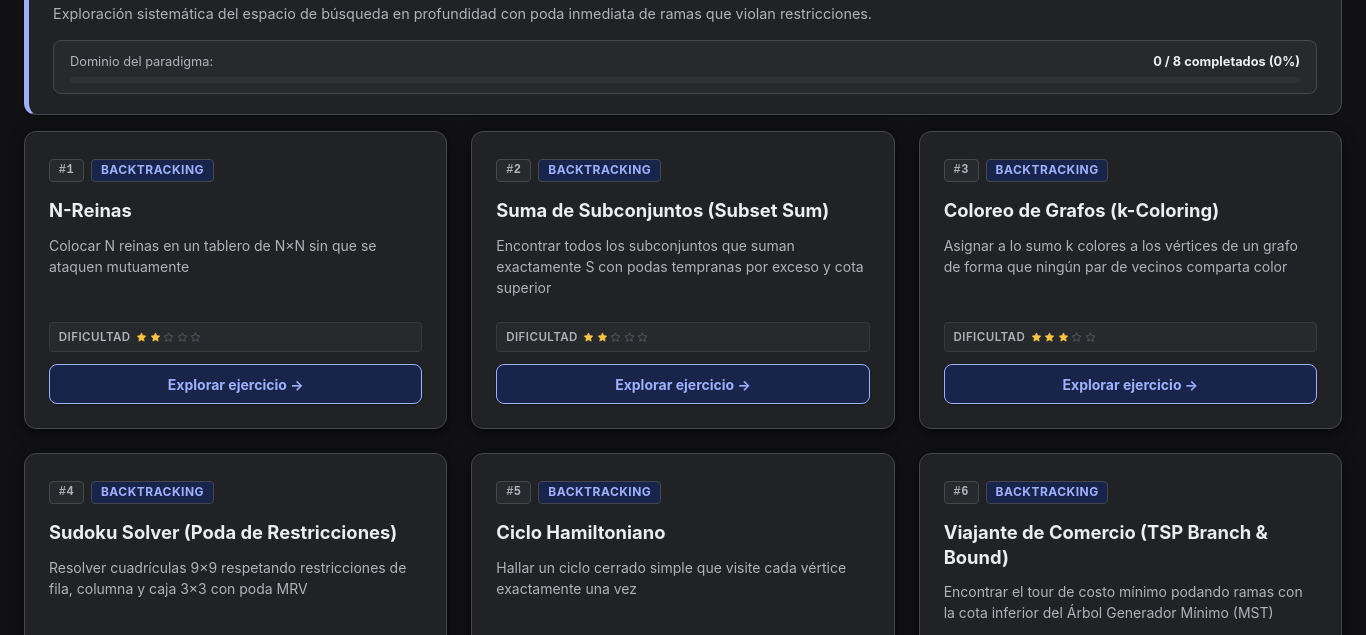
Test: Phase D: Browser / User Journey Integration Verification (15 Core Flows) › Flow 9: Timeline controls support play, step next, step prev, and reset
The width and height of the screenshot is (1366, 635).
Later steps or results of the test are not shown.
(page scrolled)
Click the button with class "btn-open-exercise" below "N-Reinas": x=236, y=384 [49,364,422,404]
(page scrolled)
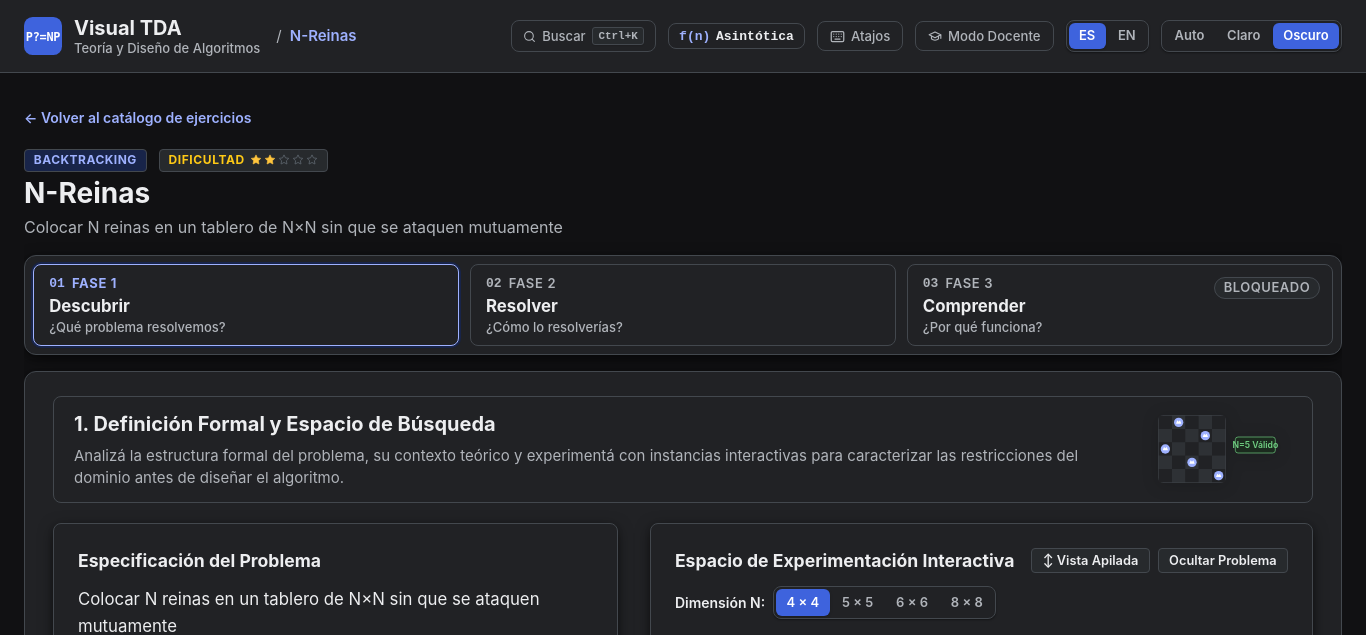
Click the tab "02 Fase 2 Resolver ¿Cómo lo resolverías?": x=532, y=283 [470,264,896,346]
(page scrolled)
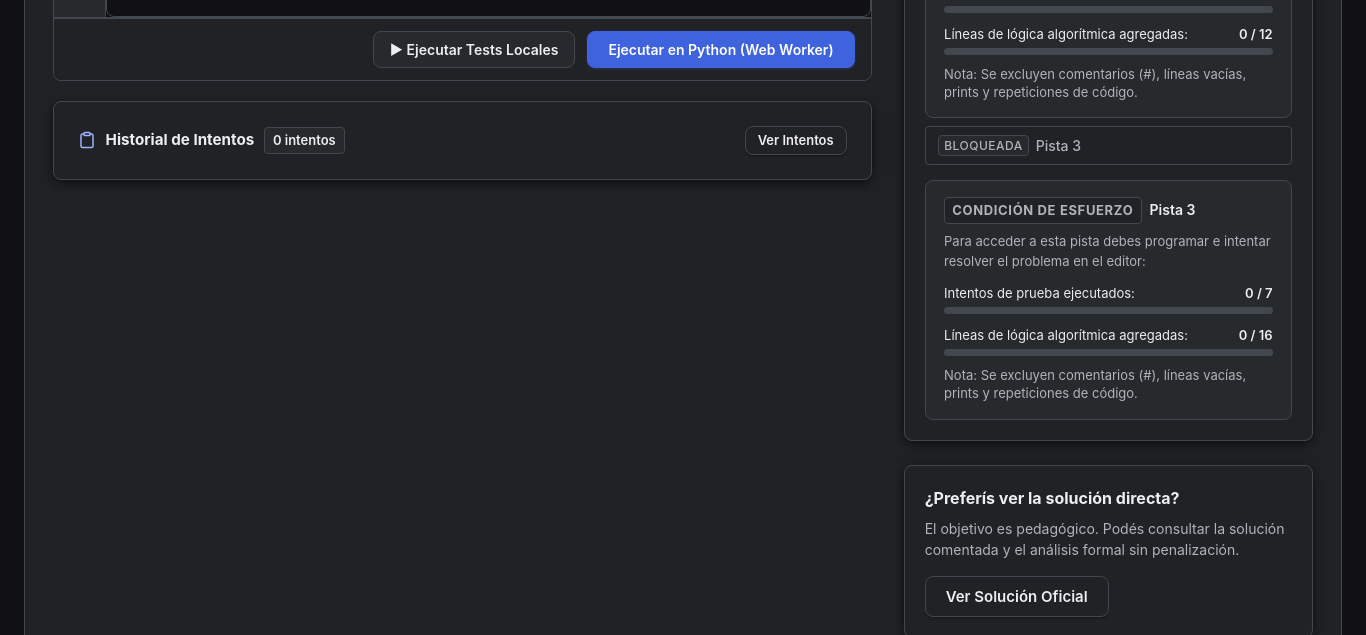
Click the button "Ver Solución Oficial": x=1017, y=596 [925,576,1109,617]
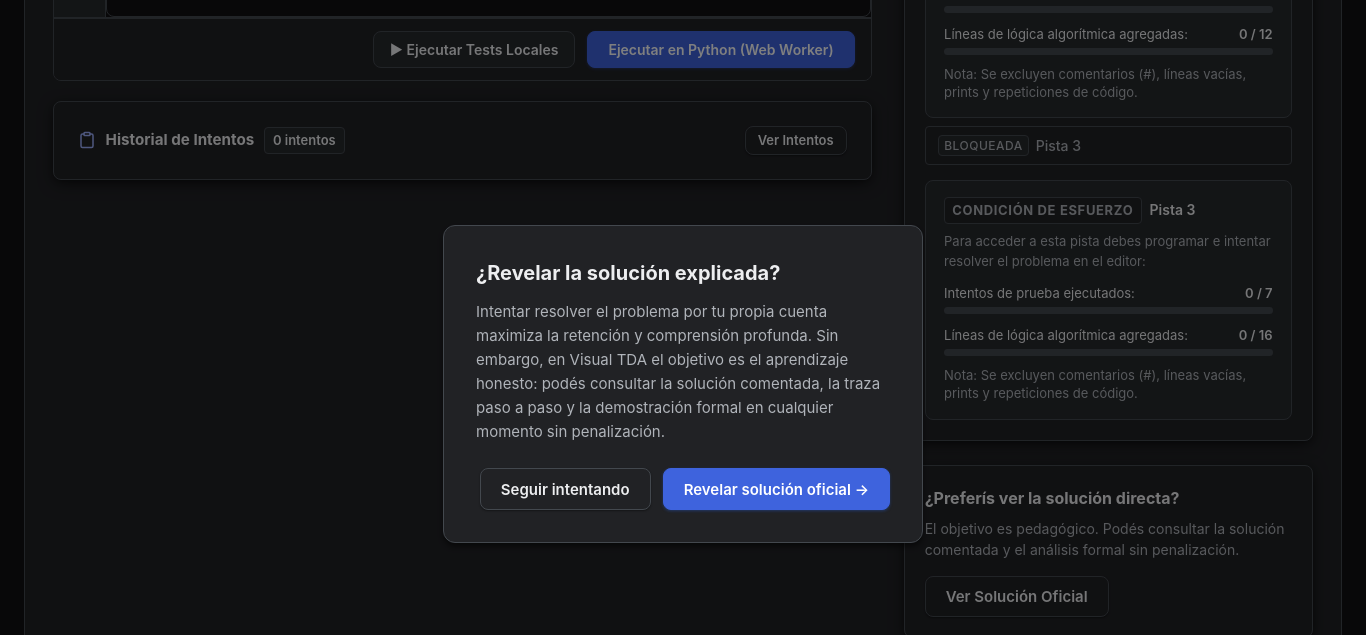
Click the button "Revelar solución oficial →": x=776, y=489 [663,468,890,510]
(page scrolled)
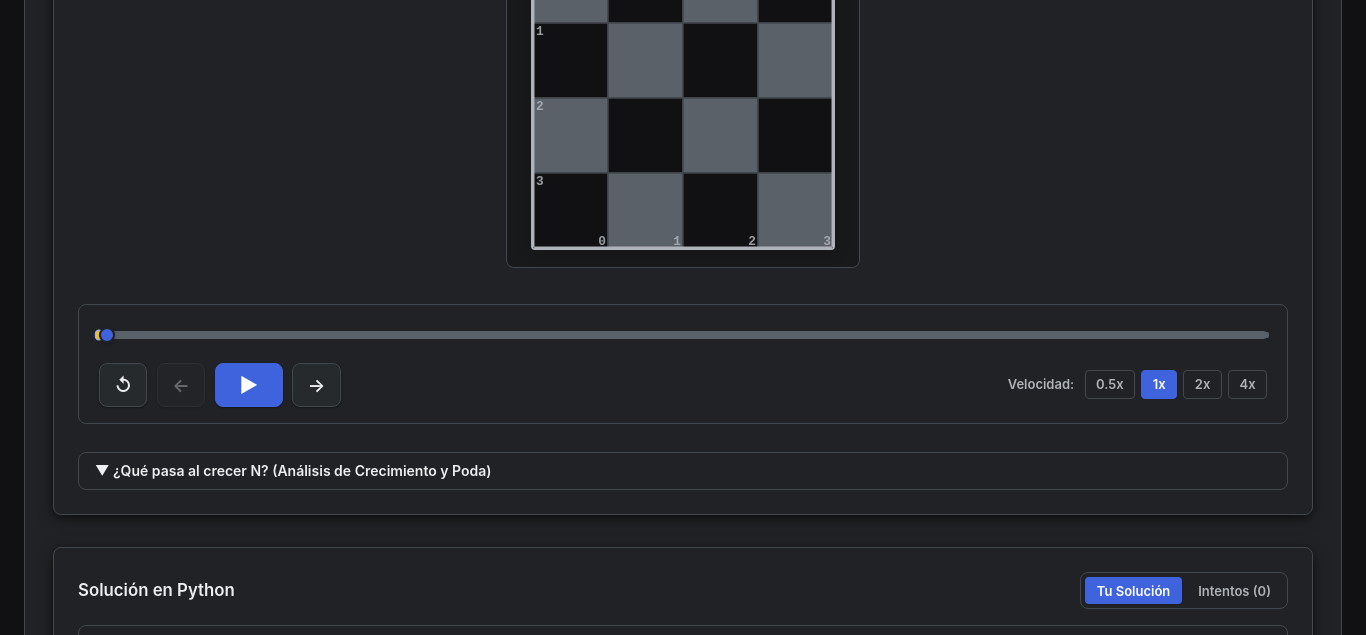
Check: the button named "Reiniciar ejecución" is shown, box [99,363,147,407]
Check: the button named "Paso siguiente" is shown, box [292,363,341,407]
Check: the button named "Paso anterior" is shown, box [157,363,205,407]
